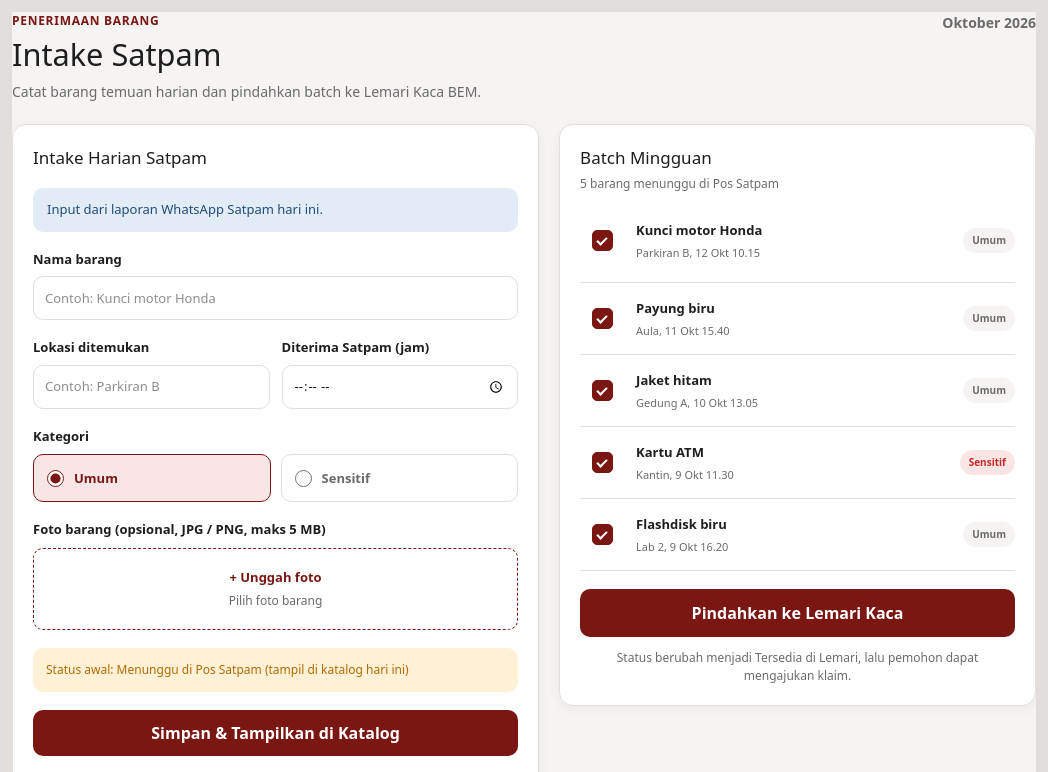
Scenario: IntakePage › moves only selected items out of the weekly batch preview
Click the checkbox named "Pilih Payung biru" at (602, 319), box [592,308,613,329]
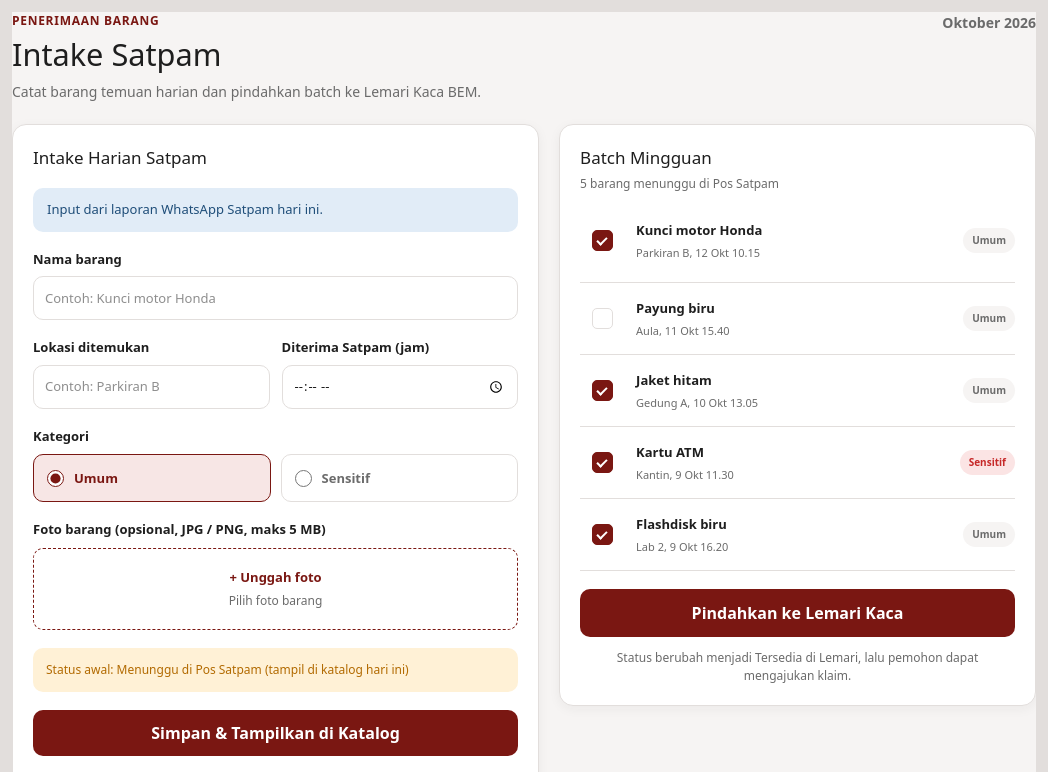
Click the checkbox named "Pilih Jaket hitam" at (602, 391), box [592,380,613,401]
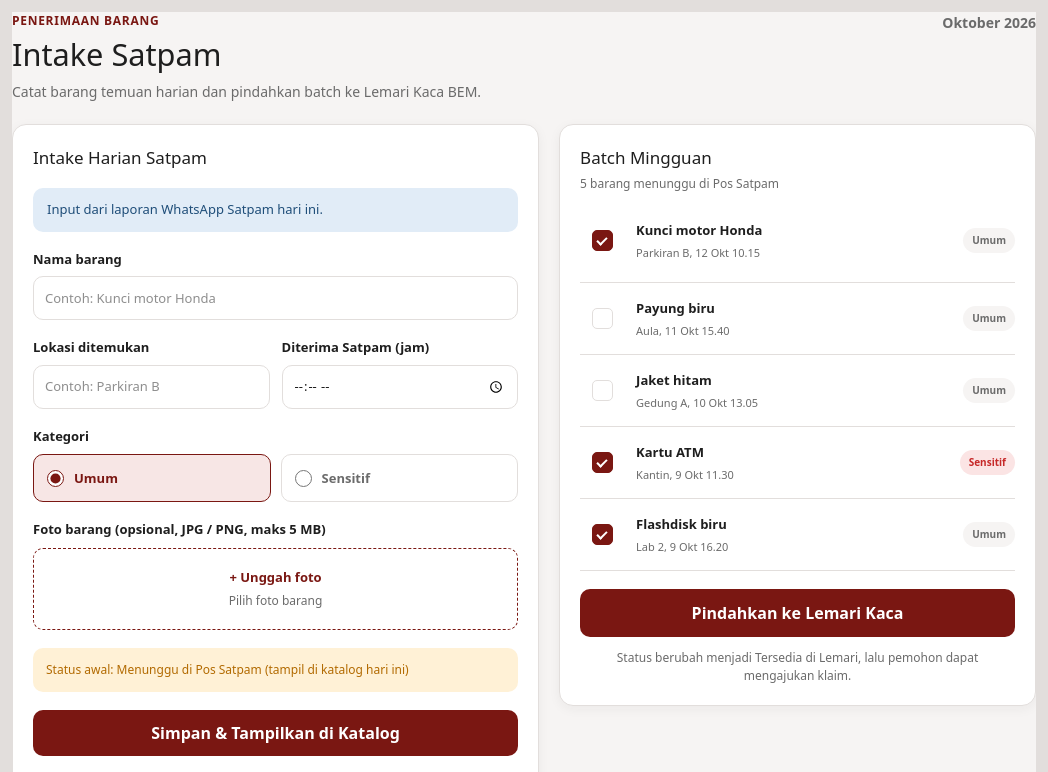
Click the checkbox named "Pilih Kartu ATM" at (602, 463), box [592,452,613,473]
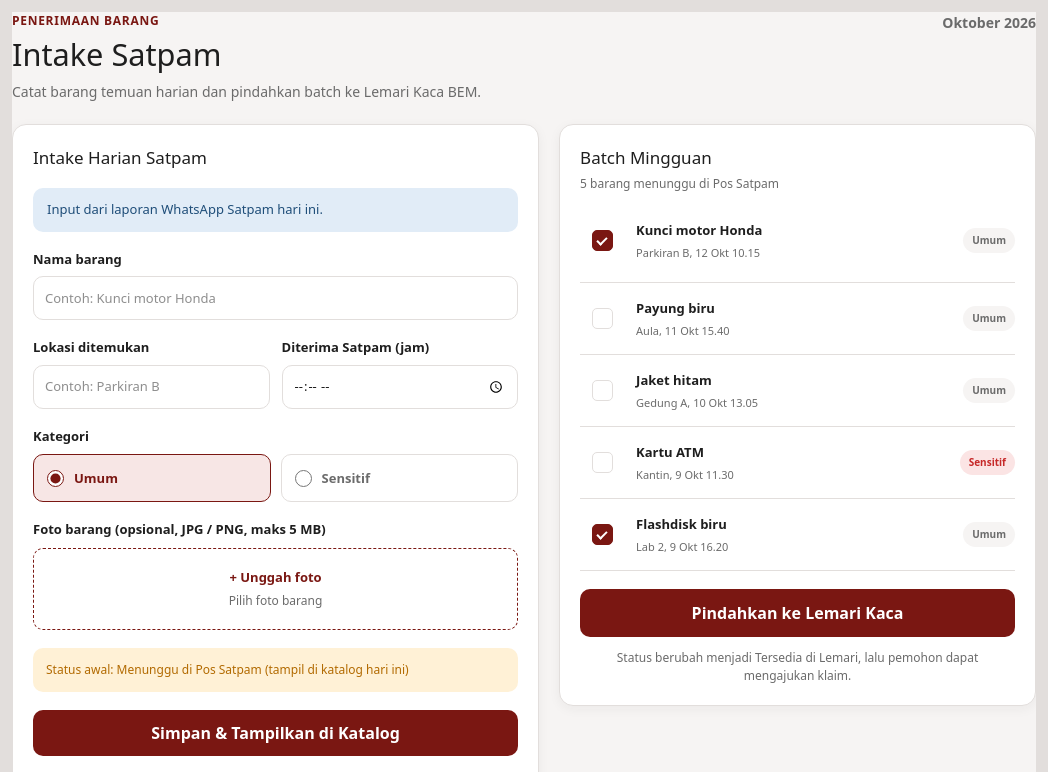
Click the checkbox named "Pilih Flashdisk biru" at (602, 535), box [592,524,613,545]
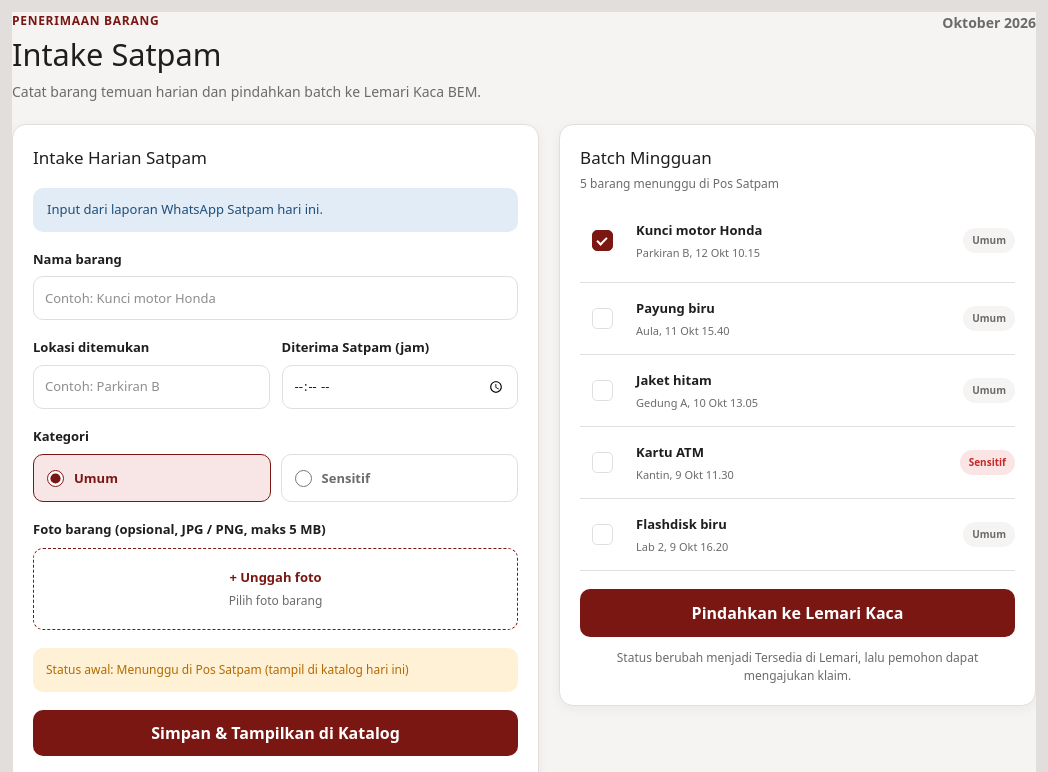
Click the button "Pindahkan ke Lemari Kaca" at (798, 613), box [580,589,1015,637]
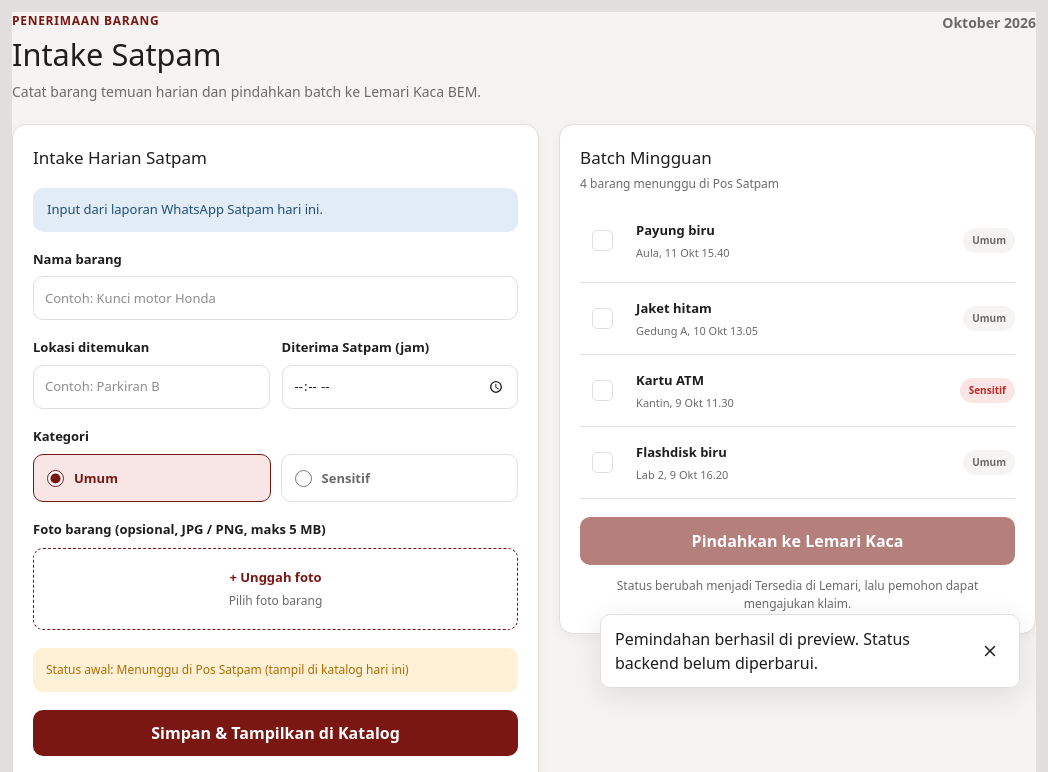
Expected: the text "Payung biru" is shown, [636,221,715,239]
Expected: the text "4 barang menunggu di Pos Satpam" is shown, [580,175,779,193]
